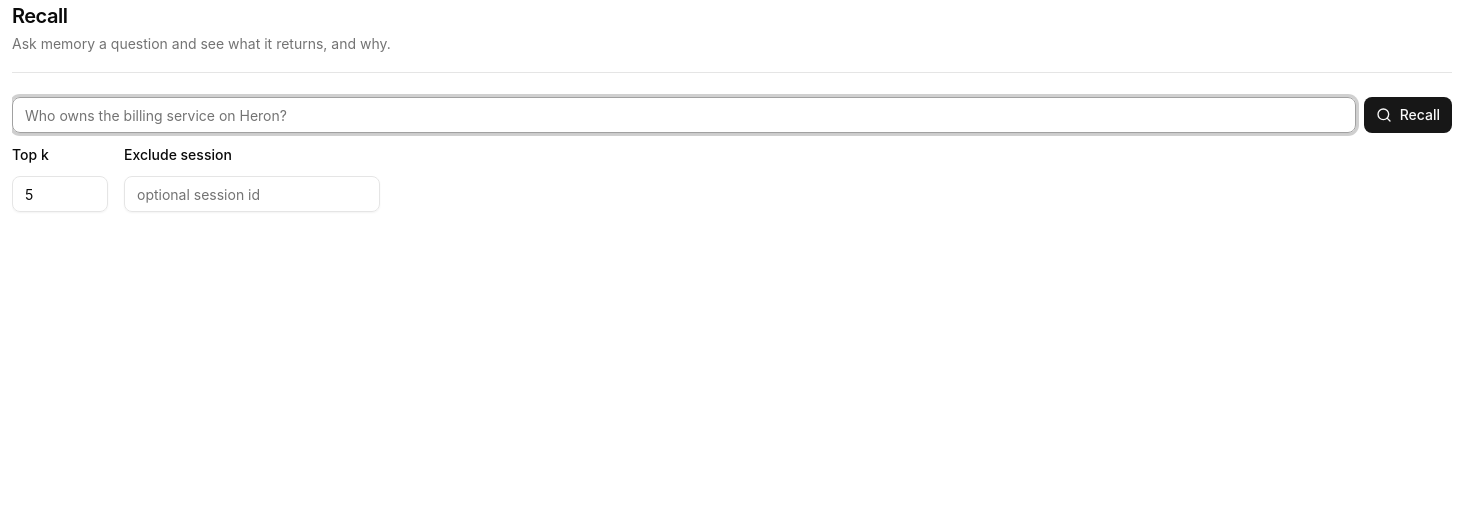
Test: RecallPage › says when memory does not hold the answer, above the turns that came closest
Type "who owns billing on Quill?" into the field named "Query".
click(684, 115); type("who owns billing on Quill?")  # box [12,97,1356,133]
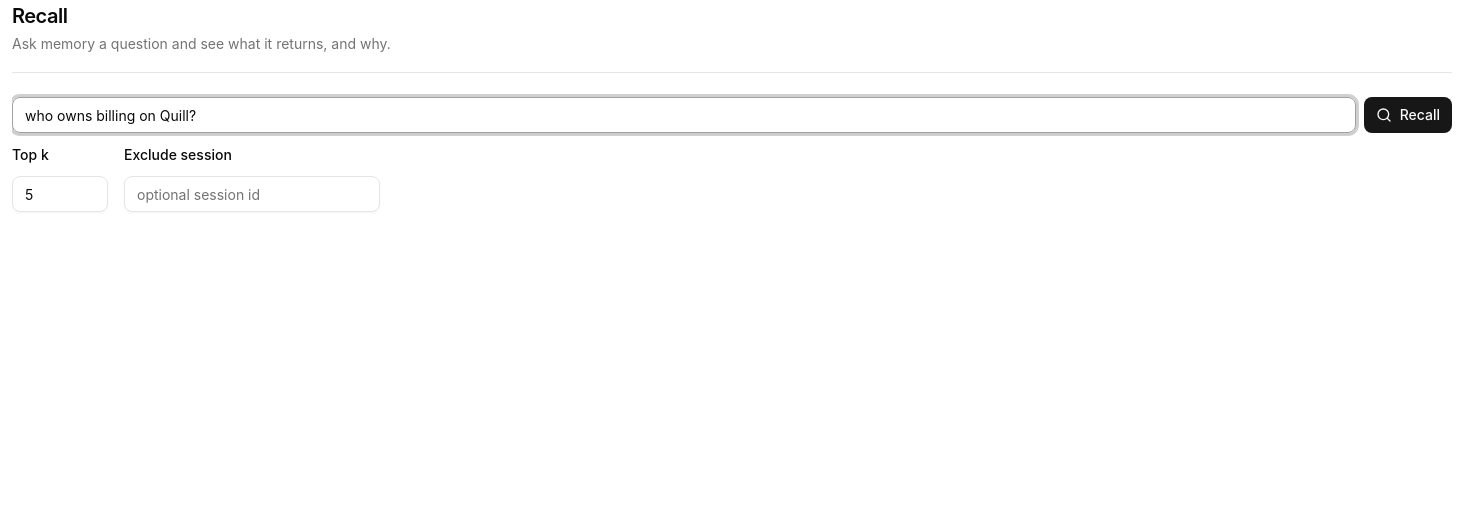
Click the button "Recall".
click(1408, 115)  # box [1364,97,1452,133]
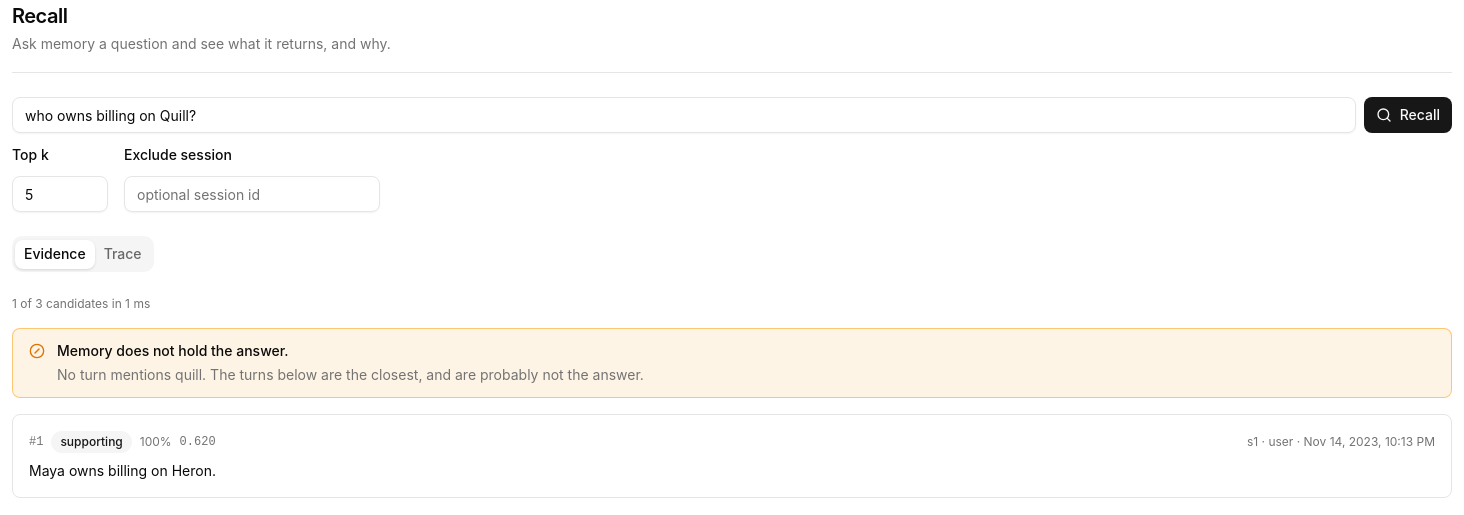
expect the message shows "Memory does not hold the answer.": met, box [57,342,288,359]
expect the message shows "No turn mentions quill.": met, box [57,366,206,383]
expect the text "Maya owns billing on Heron." is shown: met, box [29,462,216,479]
